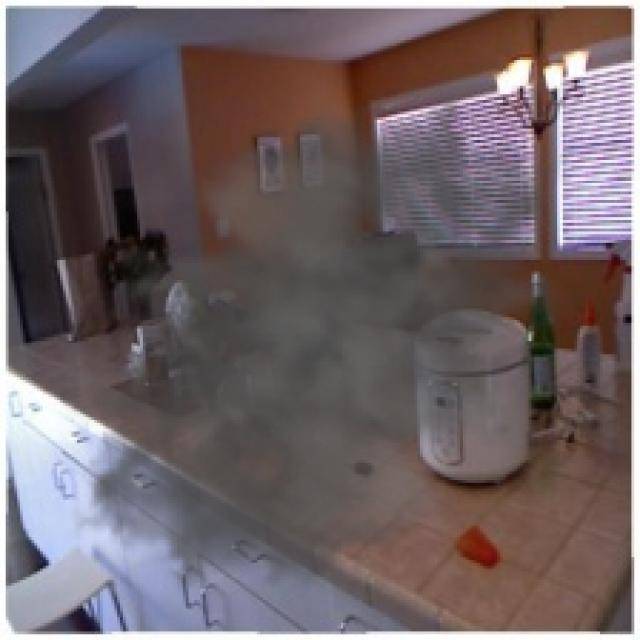Smoke: (48, 62, 586, 628)
